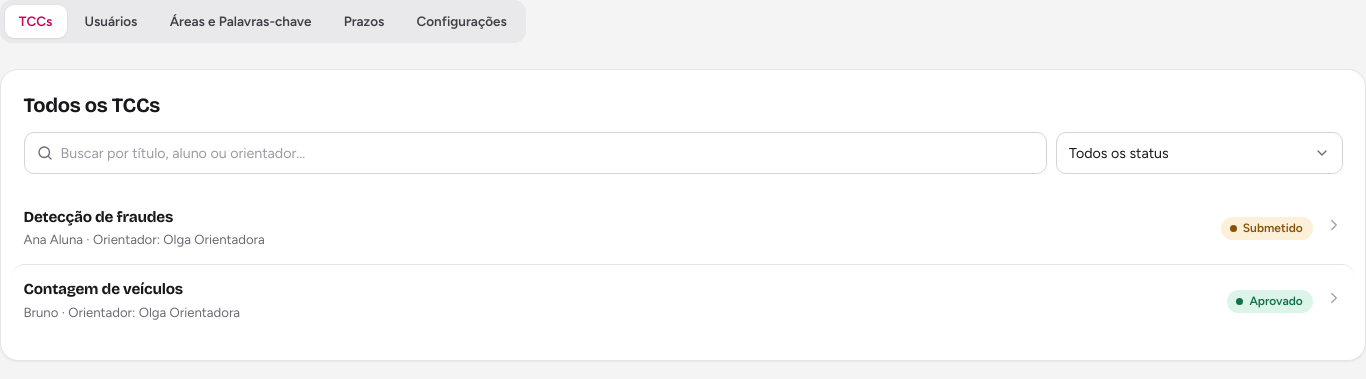
Test: coordenação: TCCs › lista todos e filtra por texto e status
The image size is (1366, 379).
Expected: the link "Prazos" is shown, [344,13,384,29]
Type "bruno" into the search field with placeholder "Buscar por título, aluno ou orientador..." at (535, 153), box [24,132,1047,174]
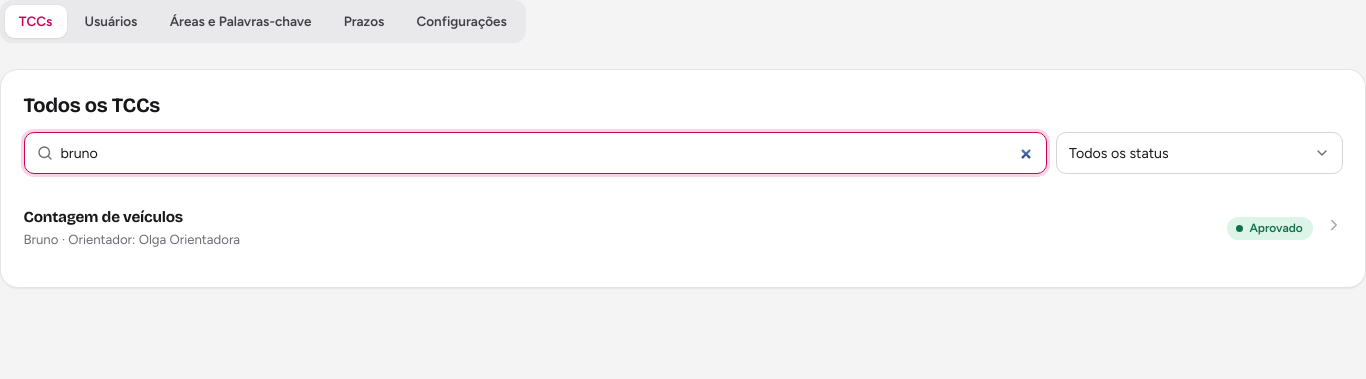
Expected: the heading "Contagem de veículos" is shown, [24,208,183,226]
Expected: the link "Detecção de fraudes" is gone
Select "Submetido" in the dropdown at (1199, 153), box [1056,132,1342,174]
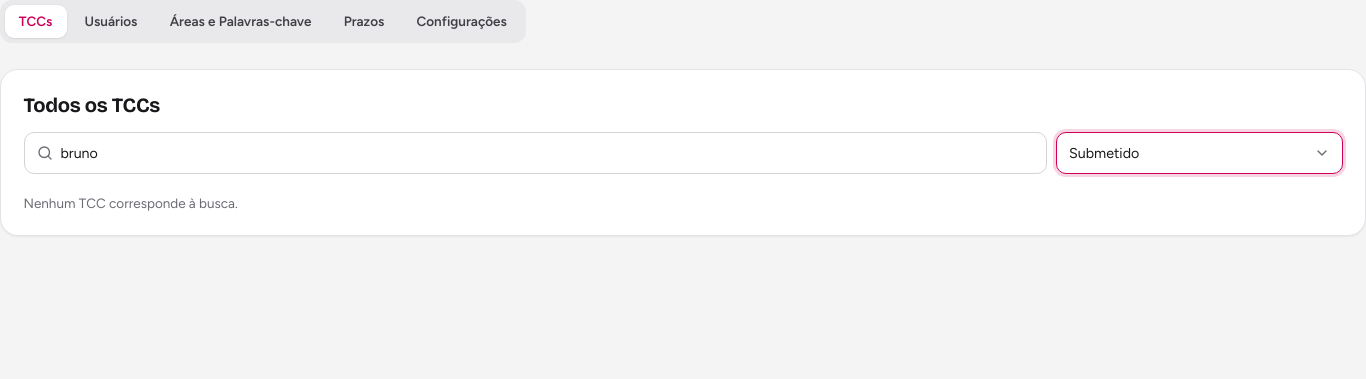
Expected: the text "Nenhum TCC corresponde à busca." is shown, [24,194,238,210]
